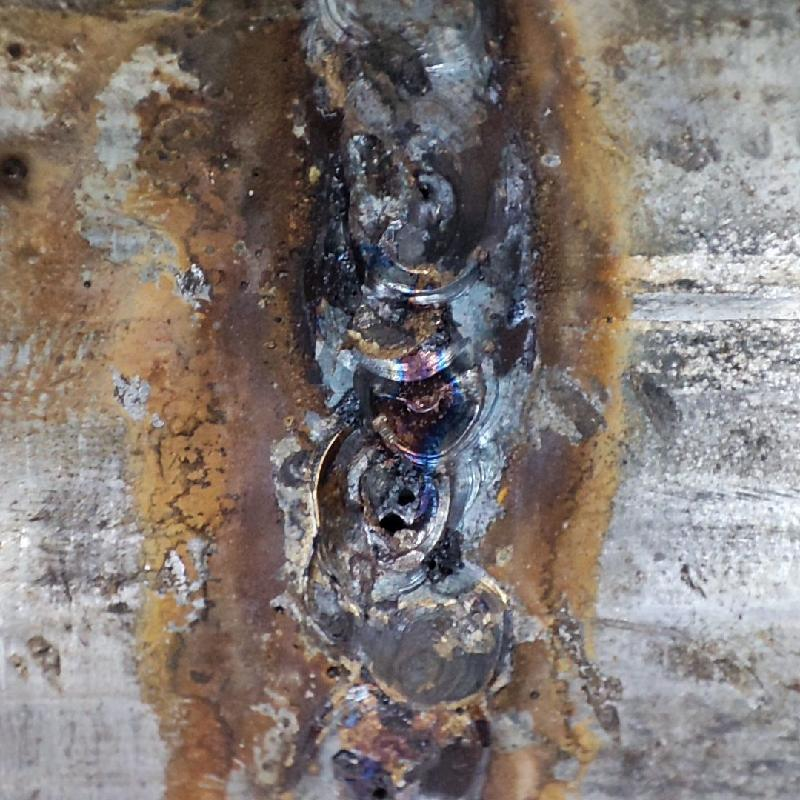Surface_pores: (347, 464, 443, 550)
crater: (310, 262, 494, 551)
